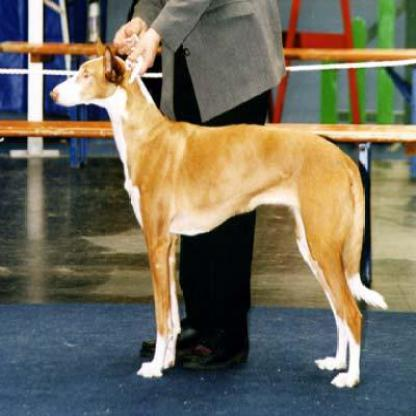dog: (51, 39, 379, 396)
